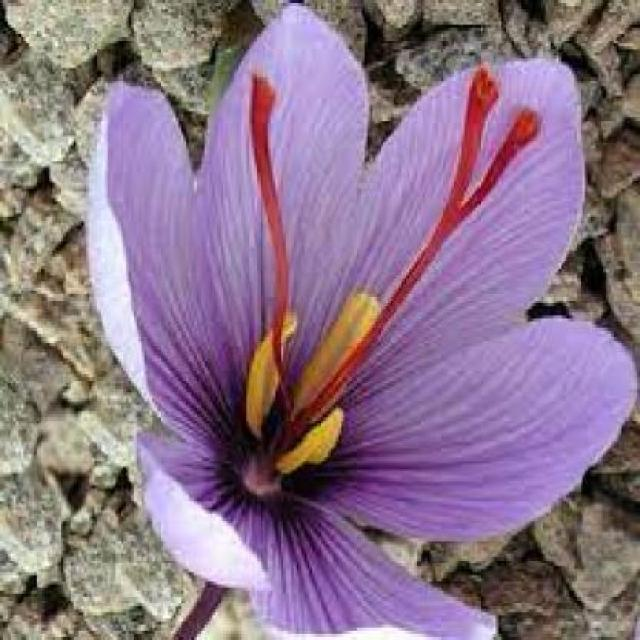saffron open: (88, 10, 639, 639)
